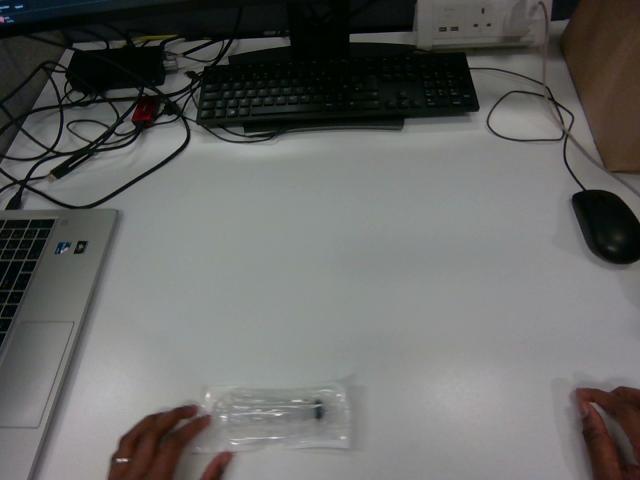syringe: (195, 383, 350, 452)
